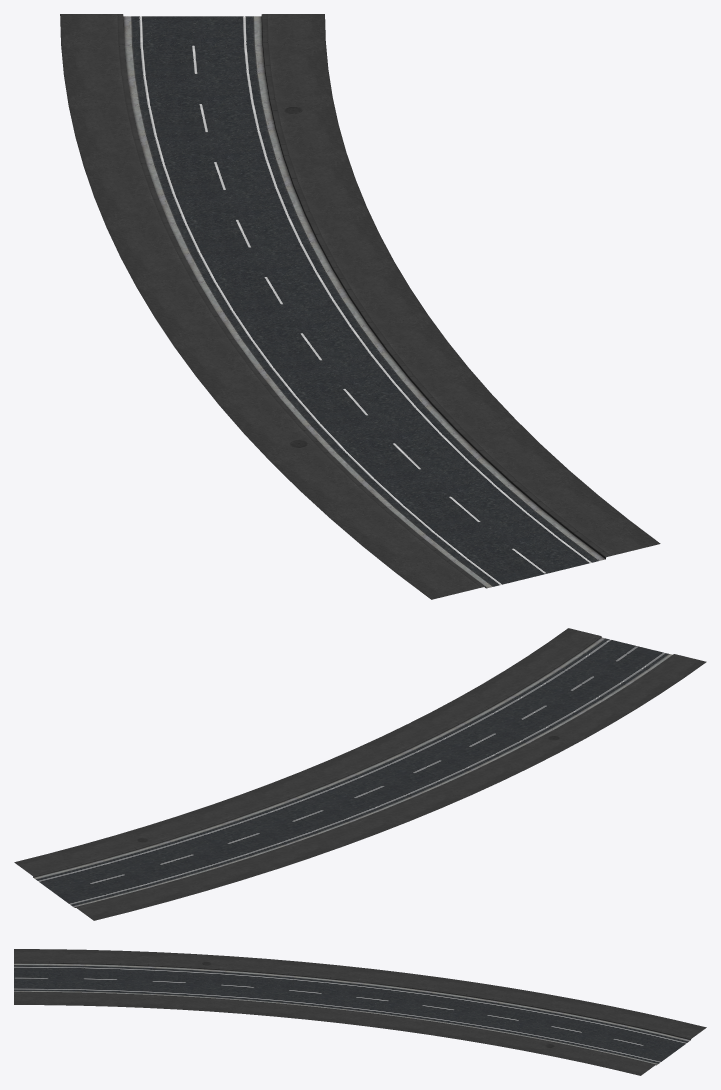
Rendered from city_road_30right.fbx.
3 renders of one model, top to bottom at view 1: azimuth 30°, elevation 25°; view 2: azimuth 150°, elevation 25°; view 3: azimuth 270°, elevation 25°, orthographic. The views are drawn at different scales.
Parts seen in each view (by area): view 1: obj0; view 2: obj0; view 3: obj0.
Part boxes in pixels (x1,y1,x2,y2): obj0: (60, 14, 660, 599); obj0: (14, 628, 706, 920); obj0: (14, 949, 706, 1075).
Bounding box in the file's own units: 66.25 × 0.254 × 153.
